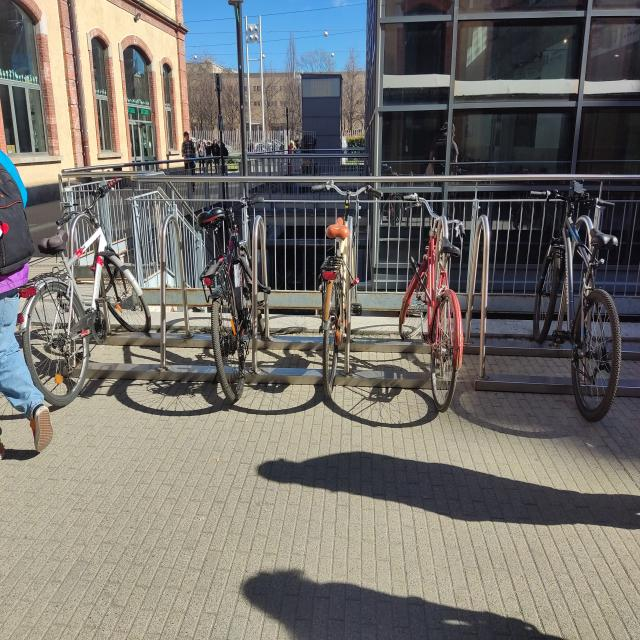Bicycle: (22, 164, 144, 418), (192, 191, 292, 413), (538, 174, 622, 428), (397, 187, 485, 401), (314, 156, 381, 387)
